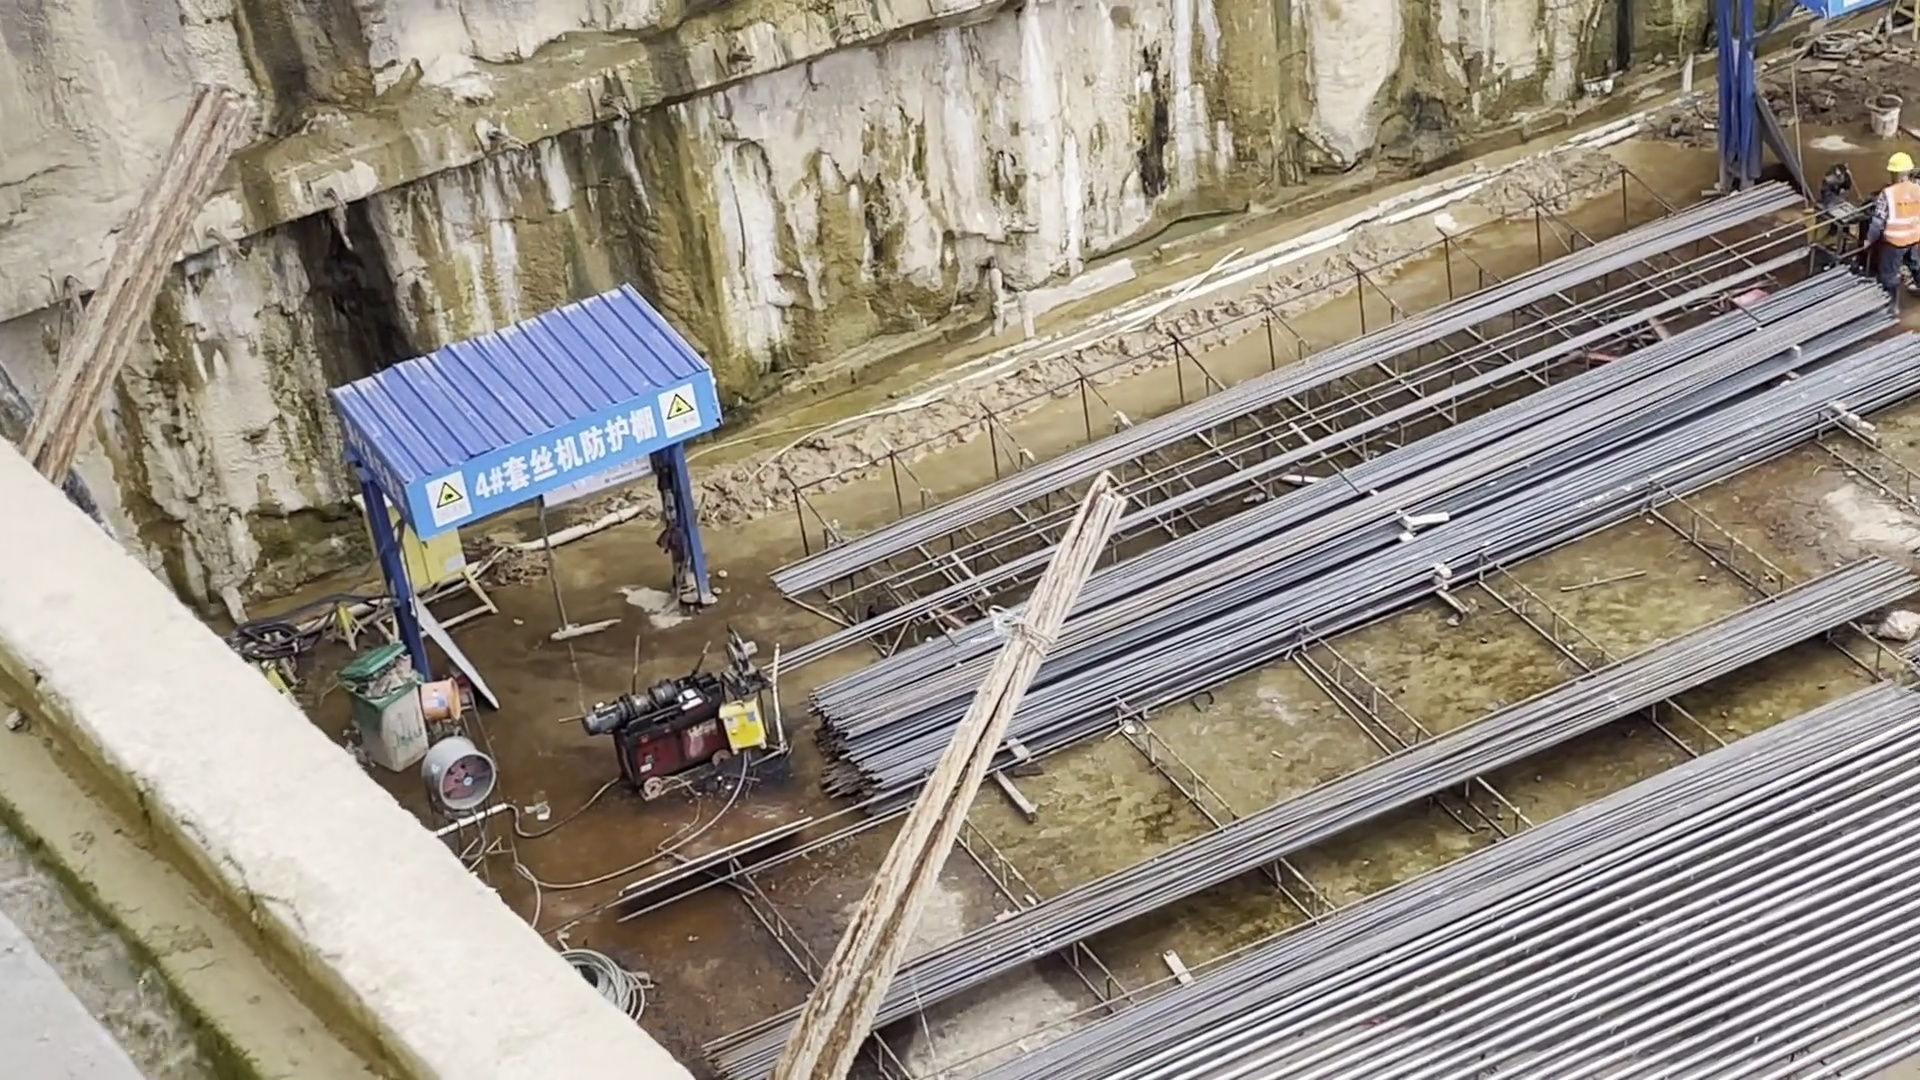helmet: (1886, 152, 1914, 172)
person: (1866, 151, 1920, 303)
rebar: (785, 172, 1918, 944)
slogan: (417, 365, 714, 538)
vest: (1882, 181, 1917, 249)
